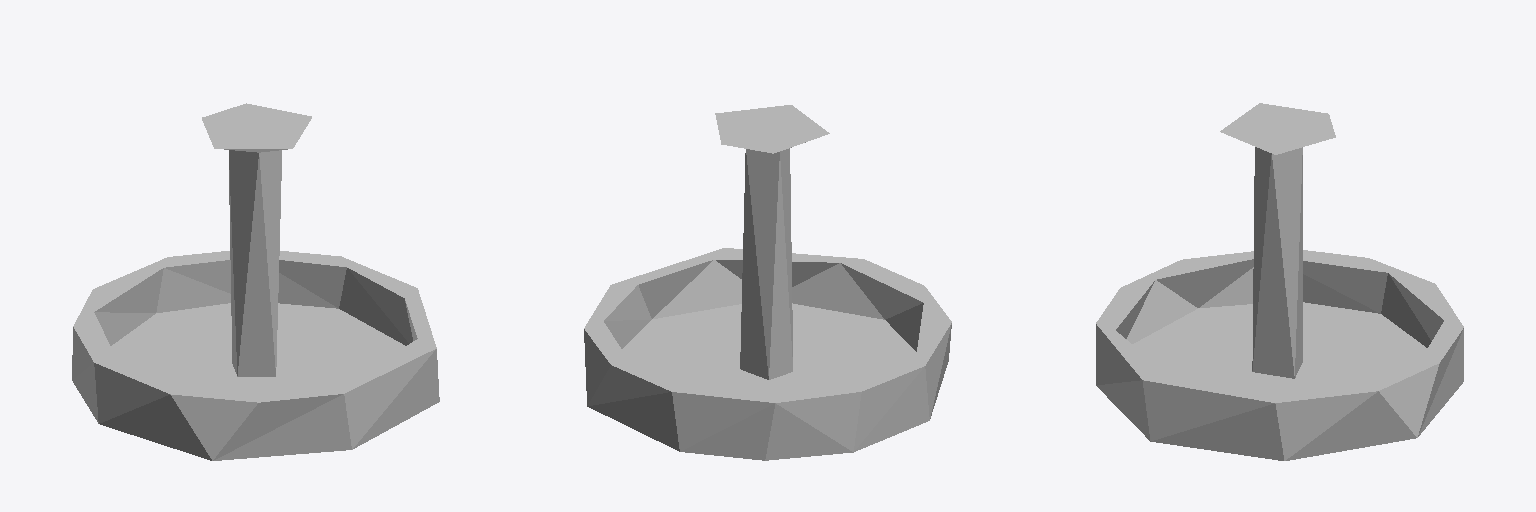
File: fountain.obj
3 views of the same model, side by side, from view 1: azimuth 30°, elevation 25°; view 2: azimuth 150°, elevation 25°; view 3: azimuth 270°, elevation 25° (orthographic).
Visible parts, largest first — view 1: Cylinder; view 2: Cylinder; view 3: Cylinder.
Boxes of the visible parts, box(x1,y1,x2,y2) form: Cylinder: box(72, 103, 439, 460); Cylinder: box(584, 105, 951, 460); Cylinder: box(1096, 103, 1463, 460).
Bounding box in the file's own units: 12.15 × 9.29 × 12.15.